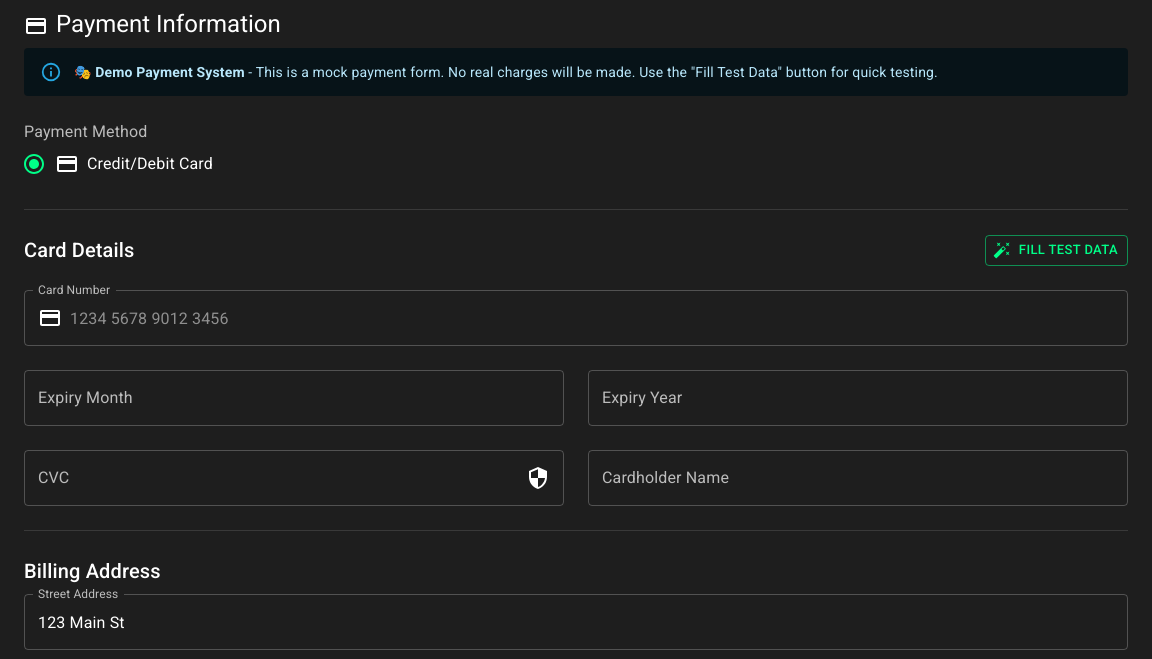
Test: MockPaymentForm Component › validates CVC format
Type "12" into the field labelled "CVC". click: (271, 478)
box: [24,450,518,506]
(page scrolled)
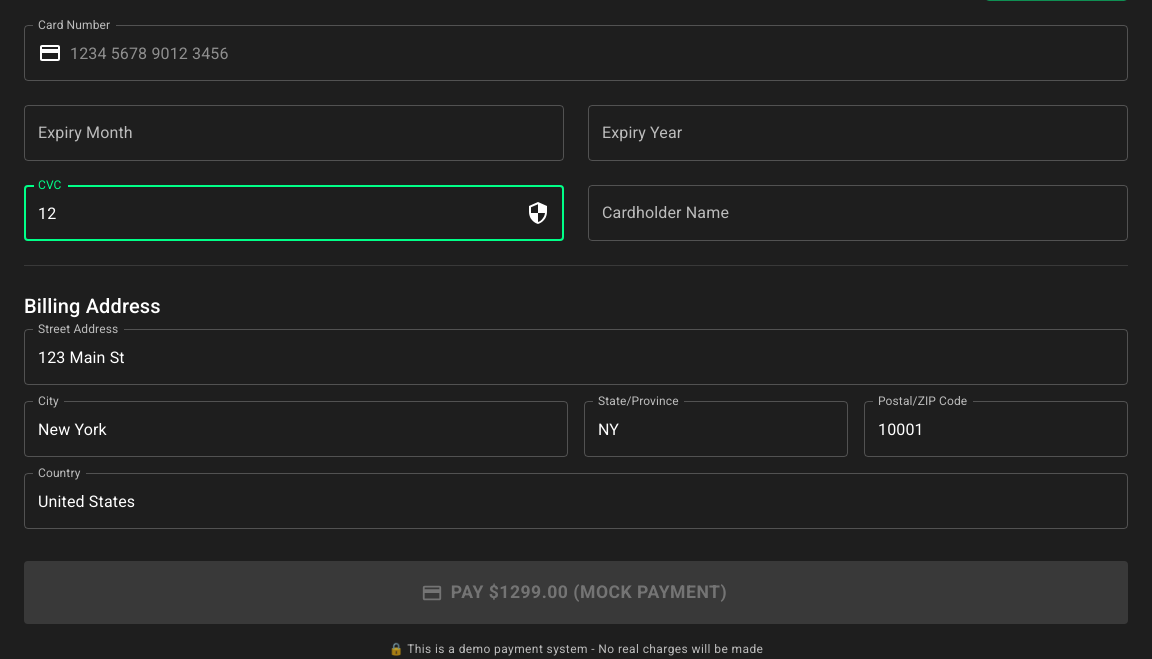
Click the button "Pay $1299.00 (Mock Payment)". click: (576, 593)
box: [24,561,1128,624]
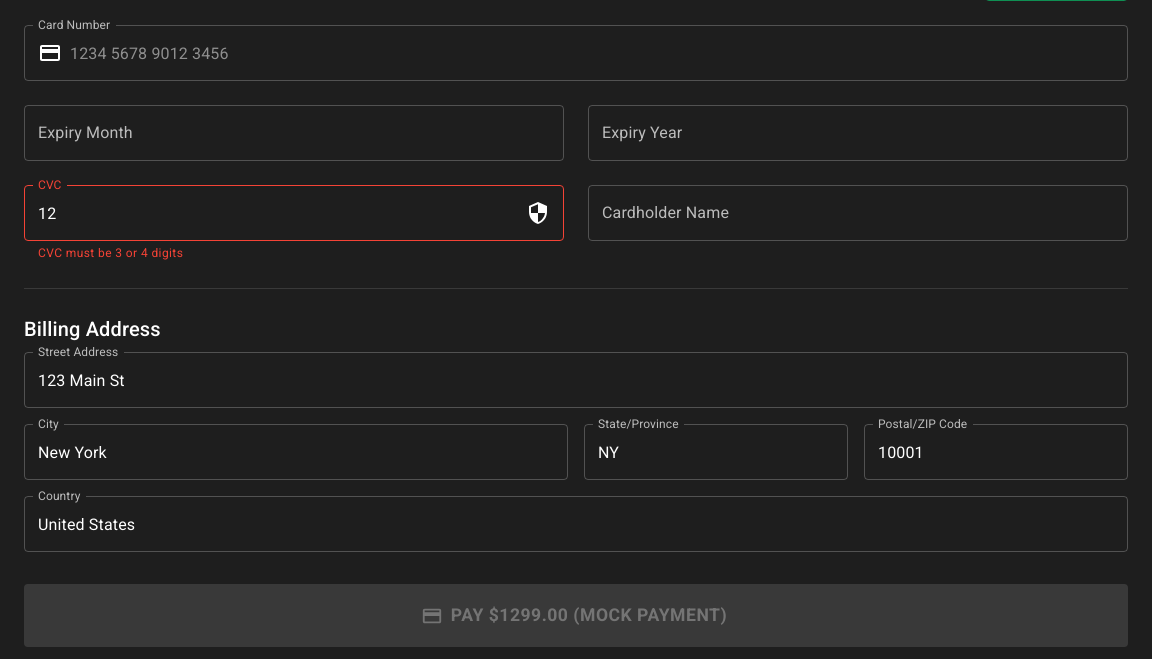
Expected: the text "CVC must be 3 or 4 digits" is shown, [38,246,183,260]
